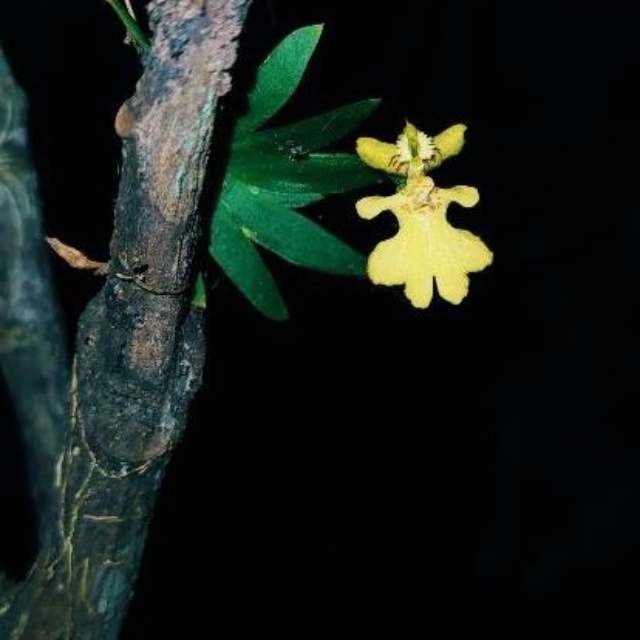obstacle: (216, 54, 553, 352)
